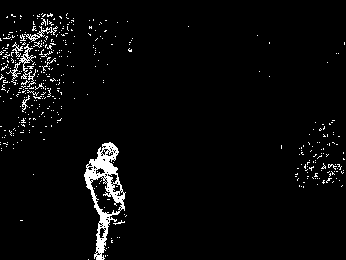person: (81, 141, 130, 260)
